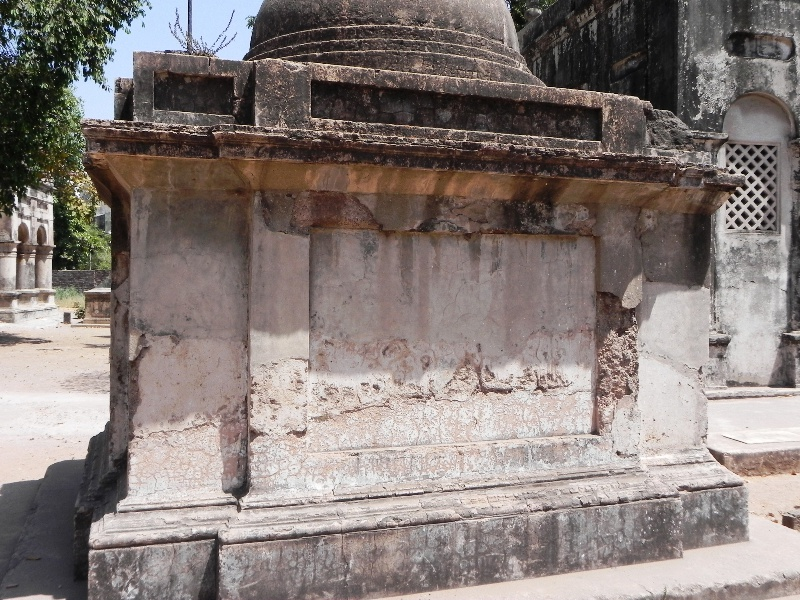Spalling: (592, 282, 647, 427), (254, 185, 393, 238), (244, 422, 314, 450)
